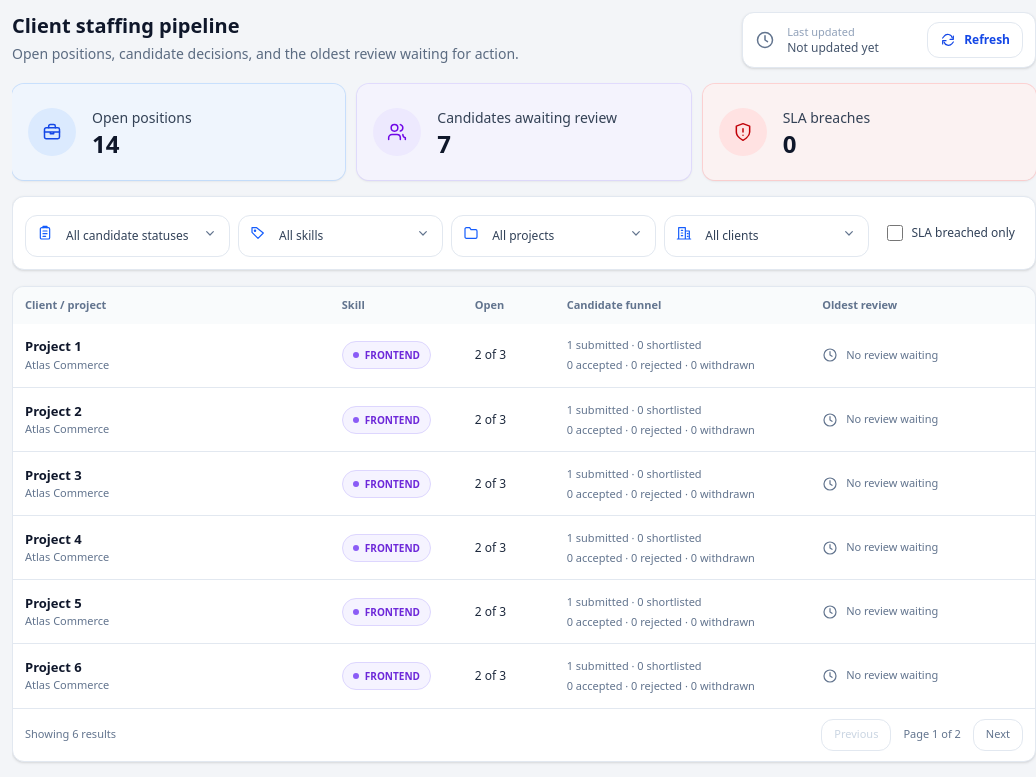
Scenario: StaffingPipelineView KPI cards › paginates the filtered presentation without changing KPI totals
Expected: the text "Showing 6 results" is shown, [25,726,116,743]
Expected: the text "Page 1 of 2" is shown, [903,726,961,743]
Click the button "Next" at x=998, y=734, box [973,718,1023,750]
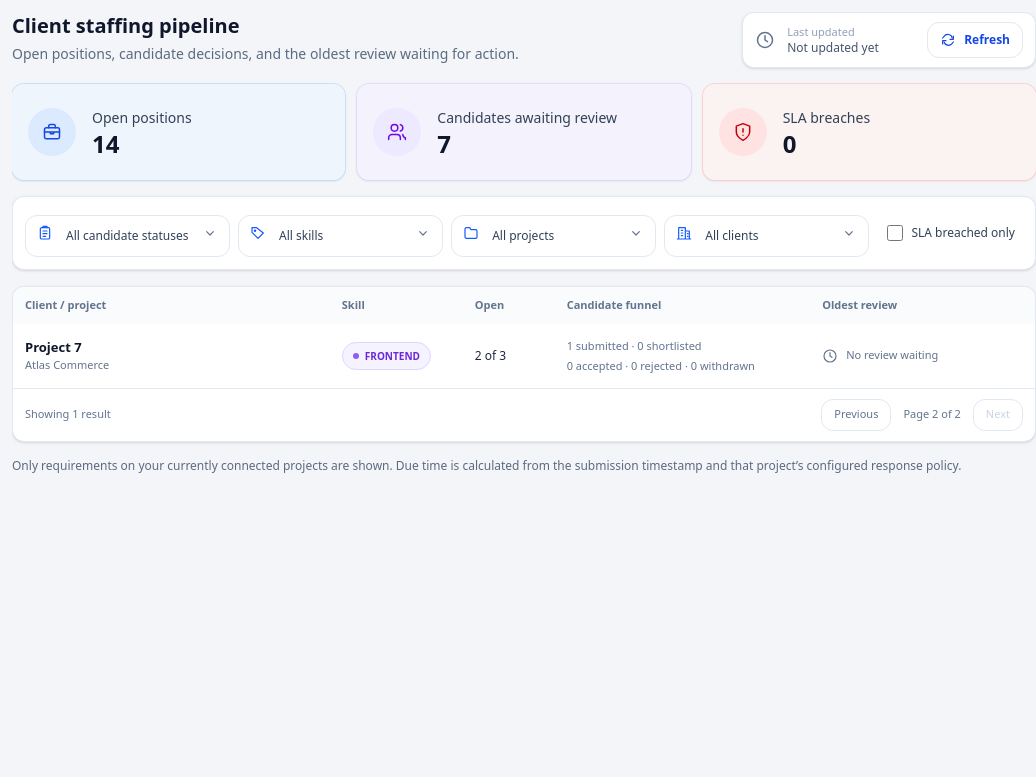
Expected: the text "14" is shown, [92,127,120,160]
Expected: the text titled "Project 7" is shown, [25,338,82,356]
Expected: the text titled "Project 1" is gone
